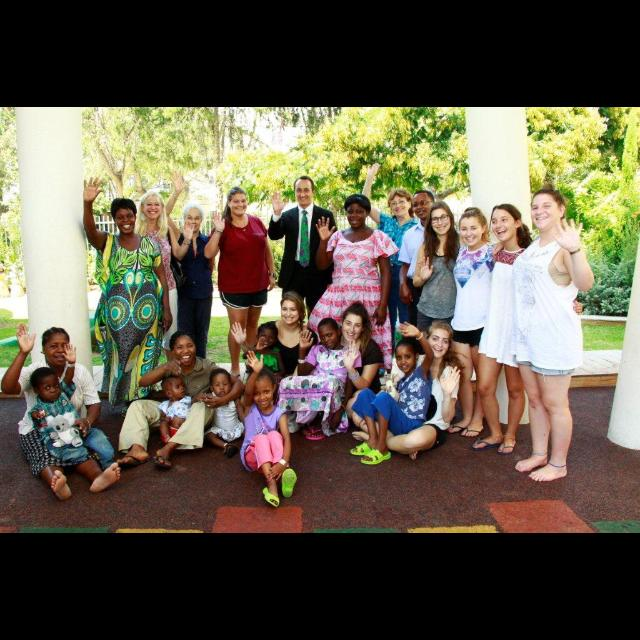head: (531, 189, 567, 233), (491, 204, 523, 243), (248, 368, 278, 409), (41, 328, 71, 367), (30, 367, 62, 403), (426, 322, 456, 360), (458, 212, 488, 248), (394, 338, 421, 376), (170, 332, 198, 368), (111, 199, 137, 235), (316, 318, 342, 352), (346, 194, 370, 228), (341, 309, 365, 343), (388, 188, 414, 218), (430, 204, 454, 236), (412, 190, 436, 222), (281, 294, 305, 326), (210, 368, 233, 399), (256, 324, 280, 350), (294, 176, 316, 204), (227, 188, 249, 216), (141, 192, 163, 220), (161, 378, 187, 400), (184, 206, 204, 234)
person: (488, 182, 598, 486), (469, 202, 587, 458), (81, 174, 177, 426), (0, 320, 124, 504), (304, 192, 402, 414), (115, 328, 247, 480), (348, 312, 469, 462), (202, 184, 282, 396), (266, 173, 344, 384), (359, 161, 433, 383), (406, 200, 476, 434), (116, 188, 194, 392), (27, 342, 139, 480), (230, 290, 326, 450), (443, 206, 507, 442), (158, 168, 224, 386), (347, 320, 439, 468), (394, 189, 456, 407), (314, 300, 392, 444), (273, 316, 357, 446), (237, 350, 299, 510), (192, 368, 254, 460), (242, 322, 294, 411), (154, 374, 206, 456)
